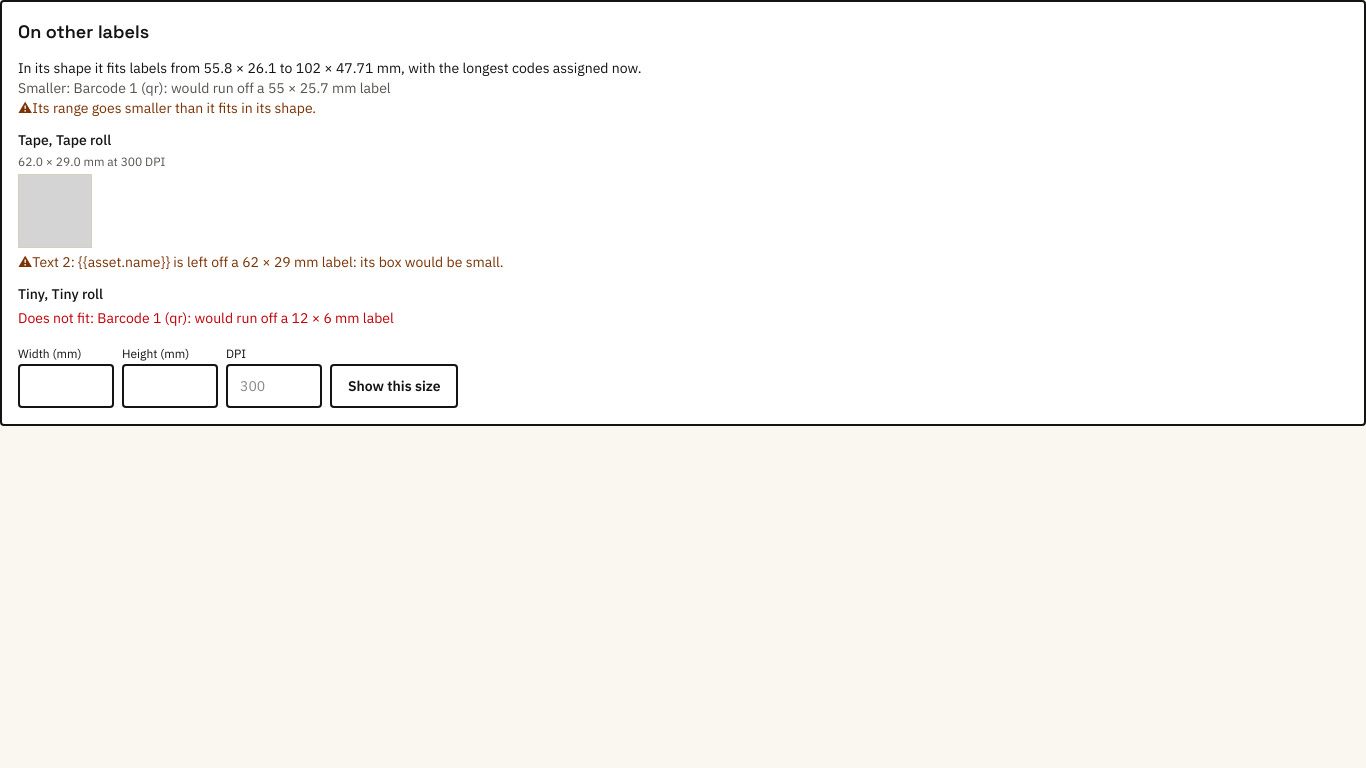
Test: AdaptivePreview › shows the sizes it takes, and how each printer lays it out, naming elements as the editor does
Expected: the text "In its shape it fits labels from 55.8 × 26.1 to 102 × 47.71 mm" is shown, top-left (18, 59), bottom-right (642, 77)
Expected: the text "Smaller: Barcode 1 (qr): would run off a 55 × 25.7 mm label" is shown, top-left (18, 79), bottom-right (391, 97)
Type "80" into the number field labelled "Width (mm)" at (66, 386), box top-left (18, 364), bottom-right (114, 408)
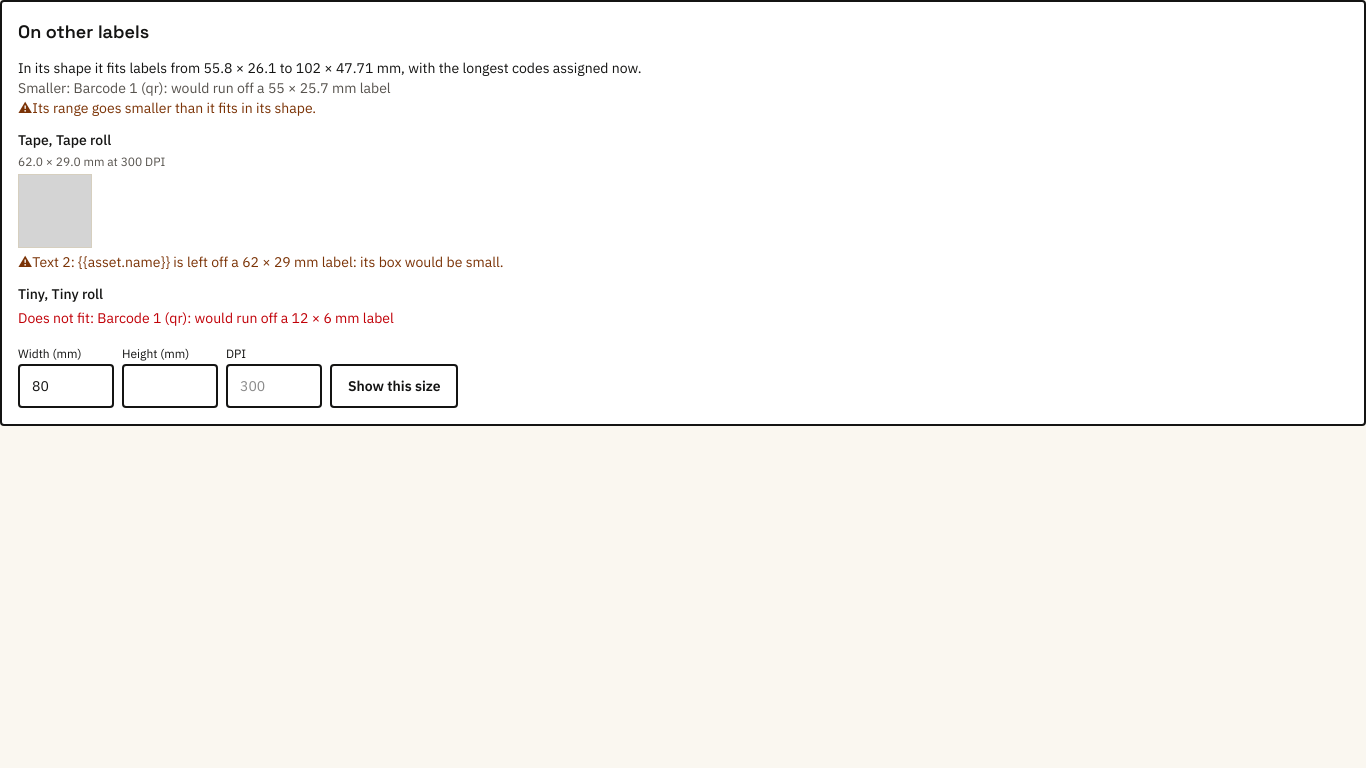
Type "40" into the number field labelled "Height (mm)" at (170, 386), box top-left (122, 364), bottom-right (218, 408)
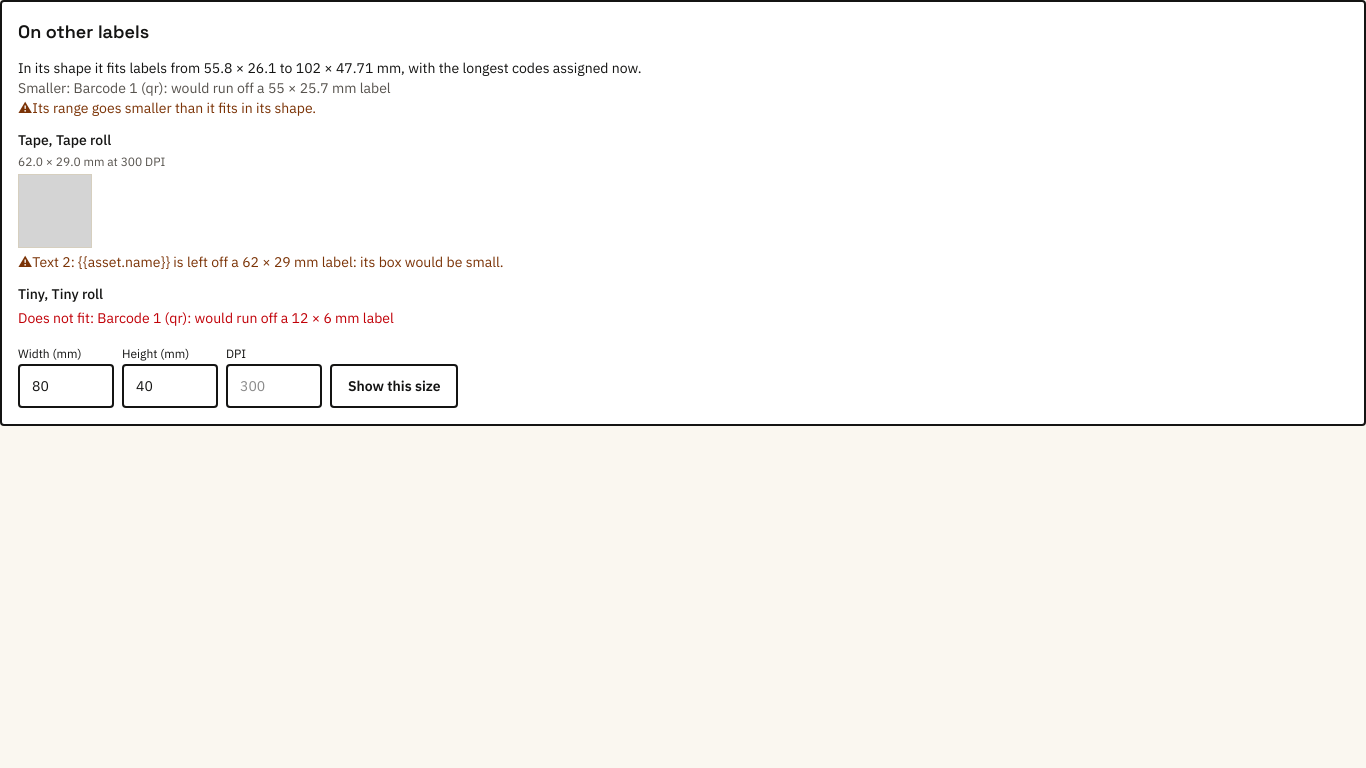
Submit the form from the button "Show this size", box top-left (330, 364), bottom-right (458, 408)
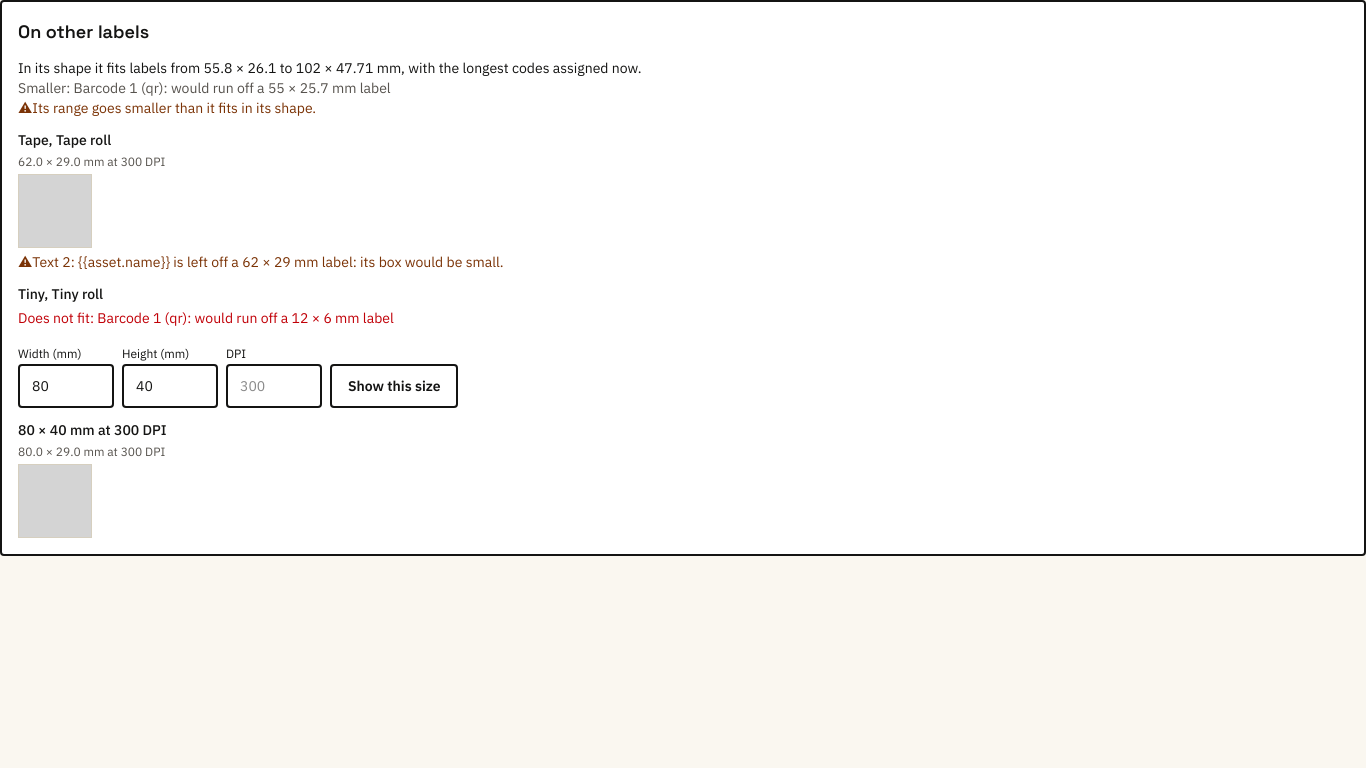
Now the text "80 × 40 mm at 300 DPI" is shown, box top-left (18, 421), bottom-right (167, 439)
